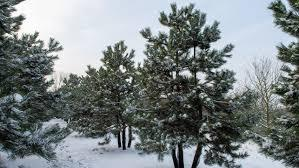tree: (140, 3, 246, 168), (81, 37, 147, 152)
